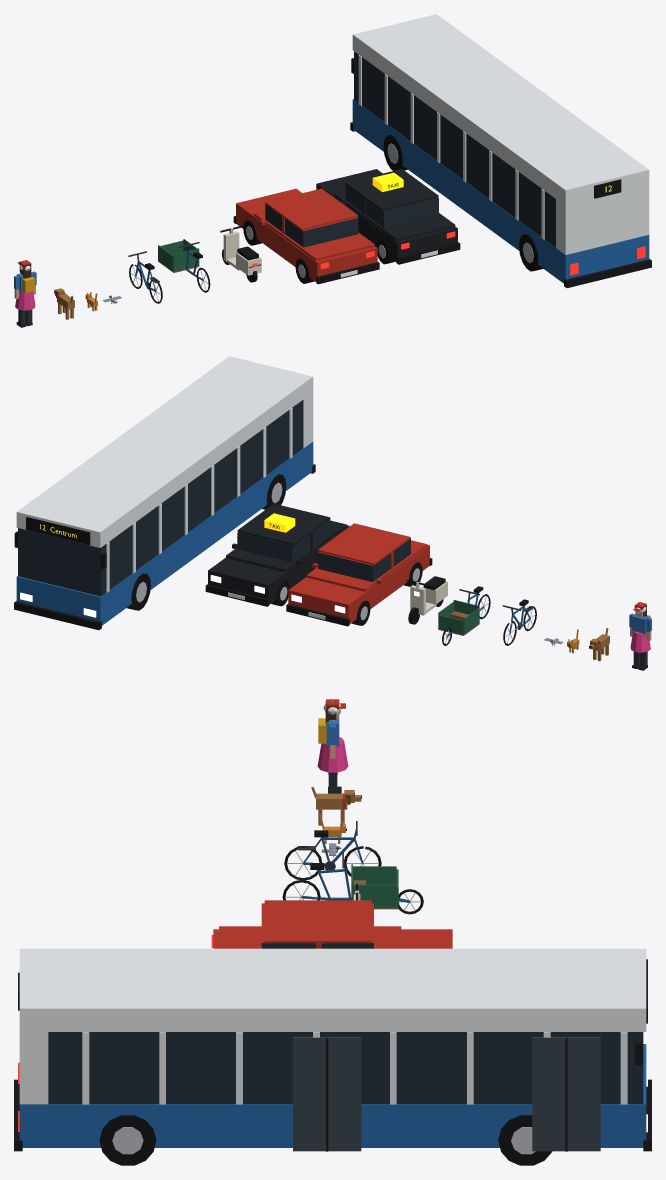
File: figuren.glb
The picture shows the model from 3 angles, top to bottom: view 1: azimuth 30°, elevation 25°; view 2: azimuth 150°, elevation 25°; view 3: azimuth 270°, elevation 25°; orthographic projection. The views are drawn at different scales.
Visible parts, largest first — view 1: Bus_romp, Auto_romp, Taxi_romp, Bakfiets_kader, Scooter_romp, Fiets_kader; view 2: Bus_romp, Auto_romp, Taxi_romp, Bakfiets_kader, Scooter_romp, Fiets_kader; view 3: Bus_romp, Auto_romp, Bakfiets_kader, Fiets_kader, Persoon_rok.
Part boxes in pixels (x1=…): Bus_romp: x1=350, y1=14, x2=651, y2=287; Auto_romp: x1=233, y1=188, x2=379, y2=284; Taxi_romp: x1=316, y1=169, x2=460, y2=264; Bakfiets_kader: x1=158, y1=239, x2=210, y2=292; Scooter_romp: x1=220, y1=225, x2=261, y2=282; Fiets_kader: x1=128, y1=251, x2=162, y2=303; Bus_romp: x1=14, y1=356, x2=315, y2=630; Auto_romp: x1=286, y1=523, x2=432, y2=626; Taxi_romp: x1=205, y1=503, x2=349, y2=606; Bakfiets_kader: x1=438, y1=586, x2=490, y2=645; Scooter_romp: x1=406, y1=576, x2=447, y2=624; Fiets_kader: x1=502, y1=599, x2=536, y2=645; Bus_romp: x1=14, y1=948, x2=651, y2=1165; Auto_romp: x1=211, y1=900, x2=454, y2=948; Bakfiets_kader: x1=282, y1=852, x2=423, y2=914; Fiets_kader: x1=284, y1=821, x2=381, y2=880; Persoon_rok: x1=317, y1=737, x2=348, y2=772.
Size of the model in its own units: 15.84 by 3.05 by 11.2.
